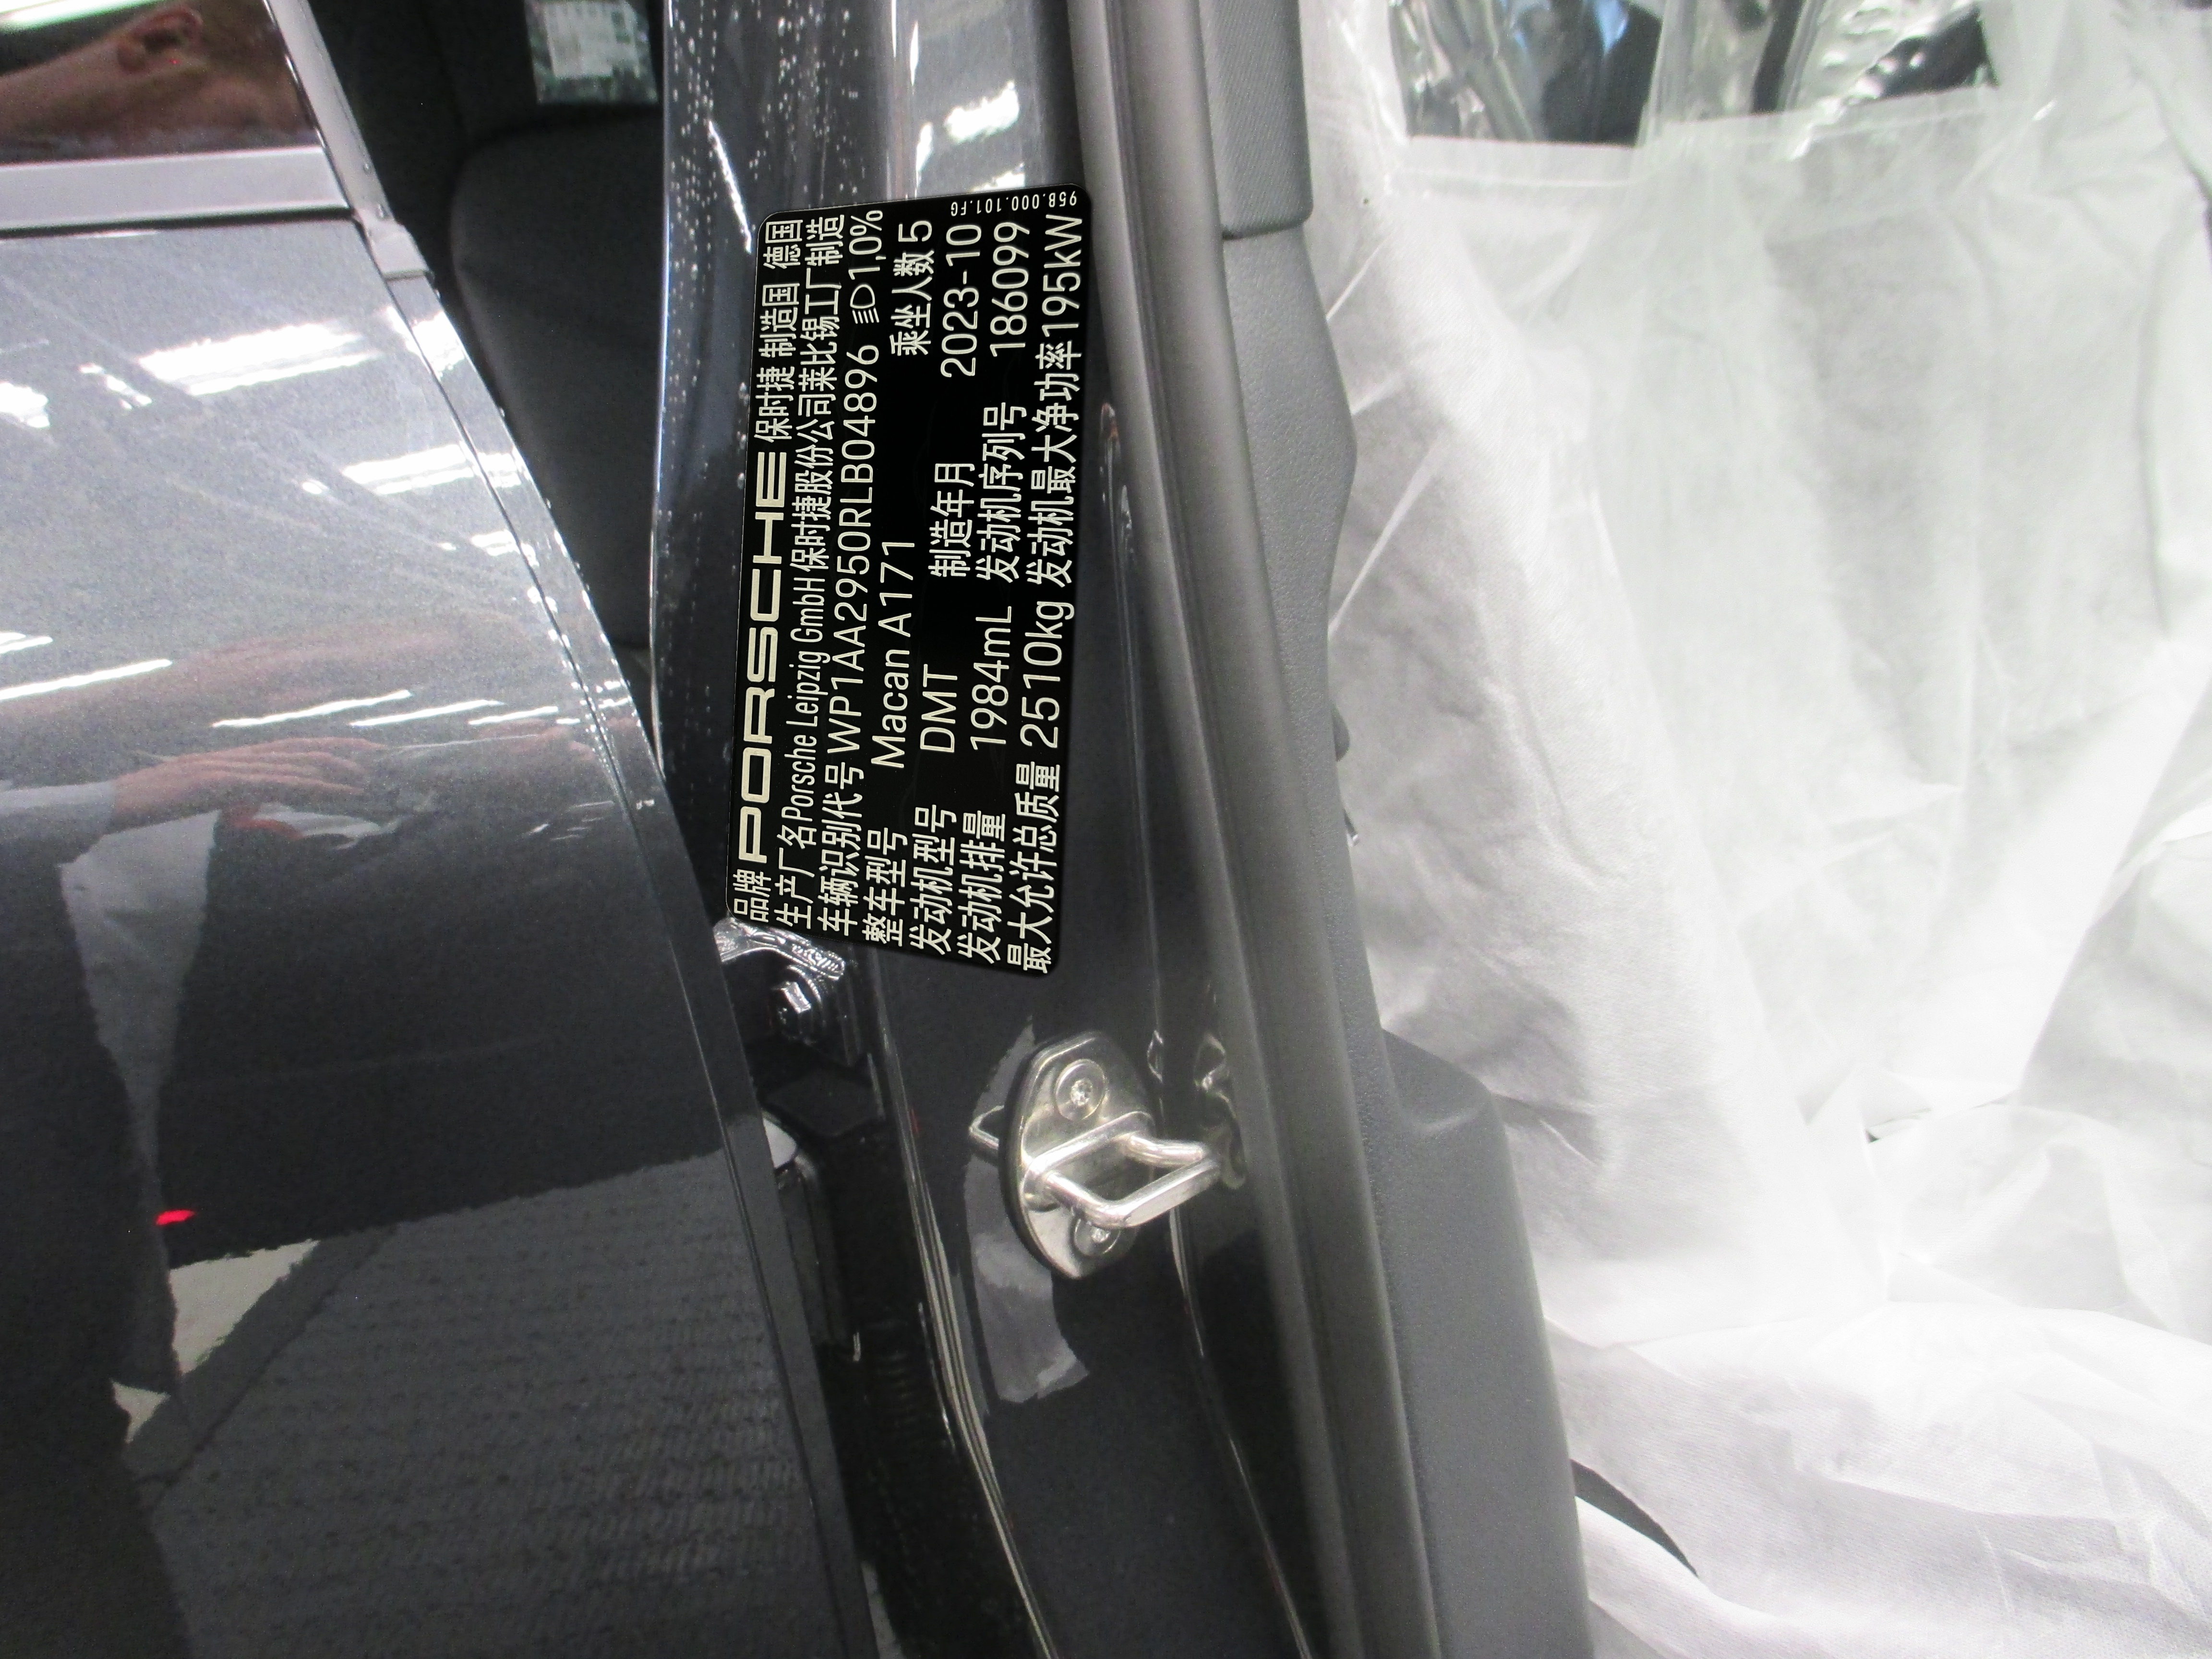Typlabel-China: (726, 183, 1092, 978)
